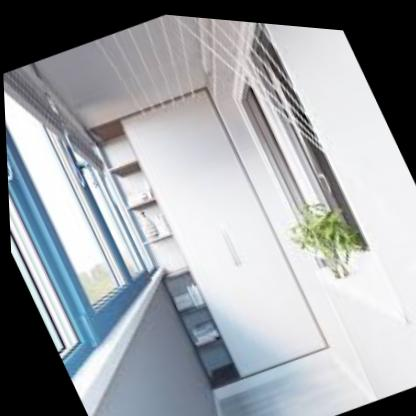Window: (3, 90, 124, 307), (7, 198, 77, 353), (70, 147, 144, 273)
